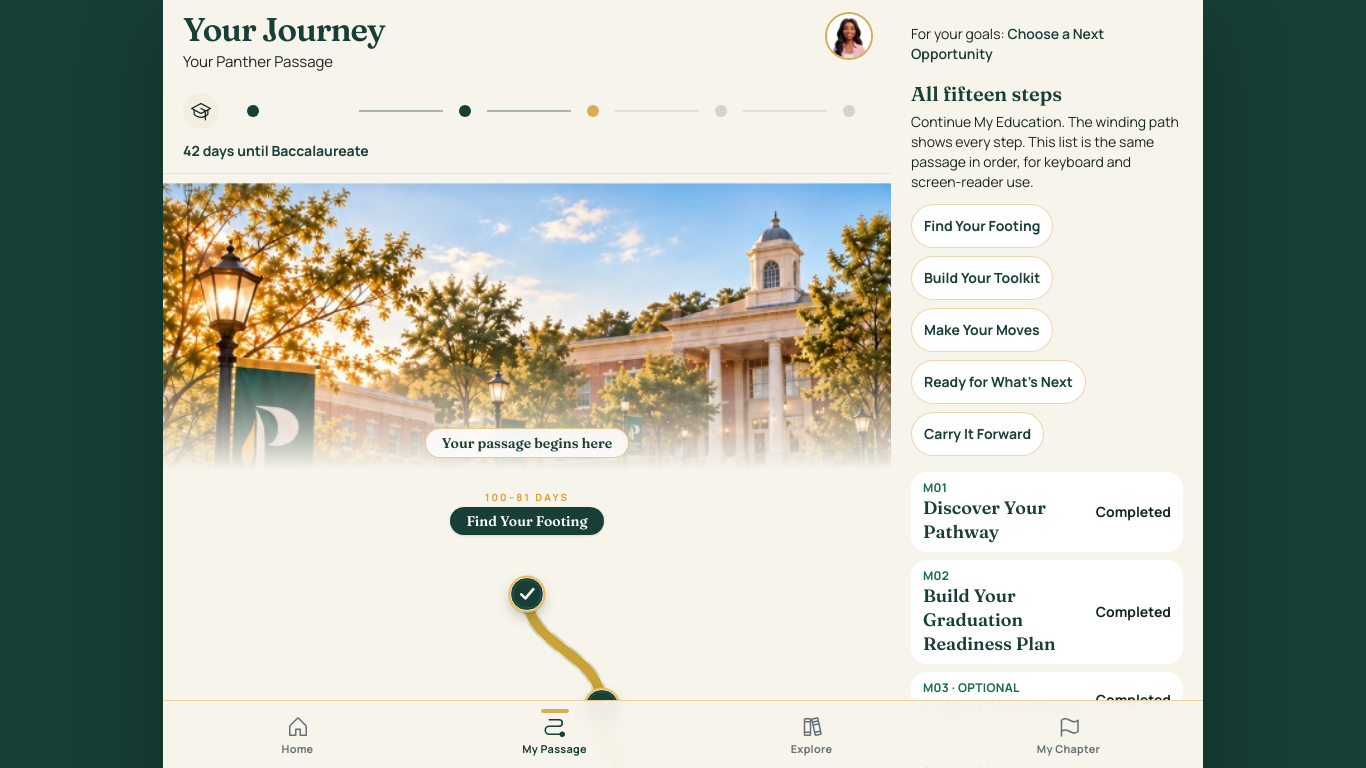
Test: chapter entry points › opens each chapter on its own milestones
The image size is (1366, 768).
Click the link named "Build Your Toolkit, complete": (465, 111) [459,105,471,117]
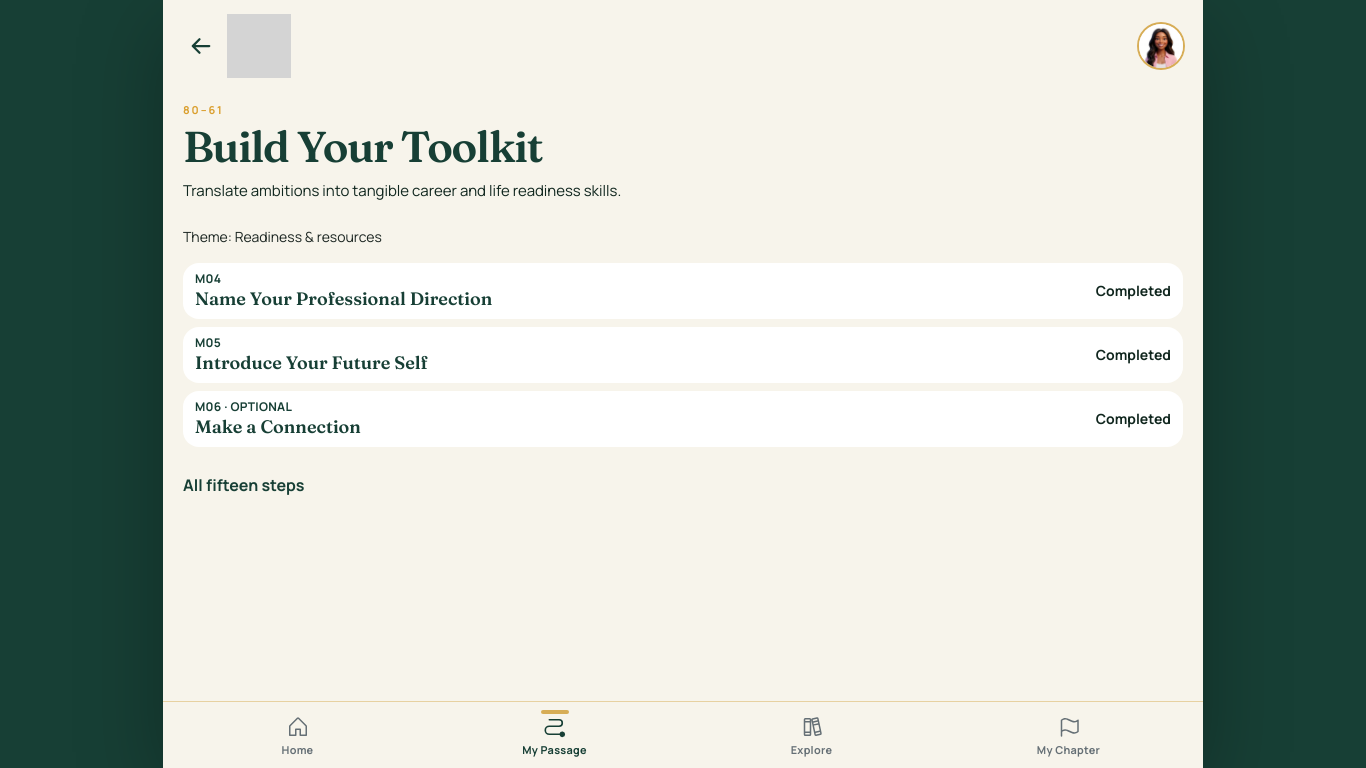
Expected: the heading "Build Your Toolkit" is shown, [183,120,542,173]
Result: the link "M01" is gone
